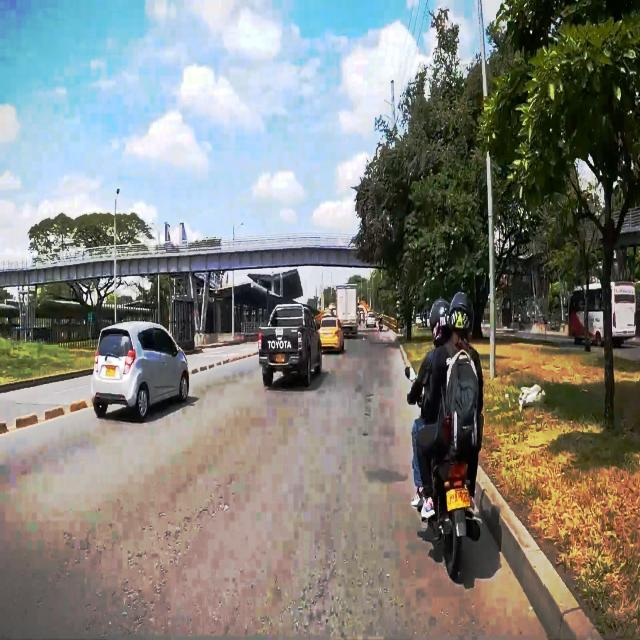license_plate: (446, 486, 470, 512)
